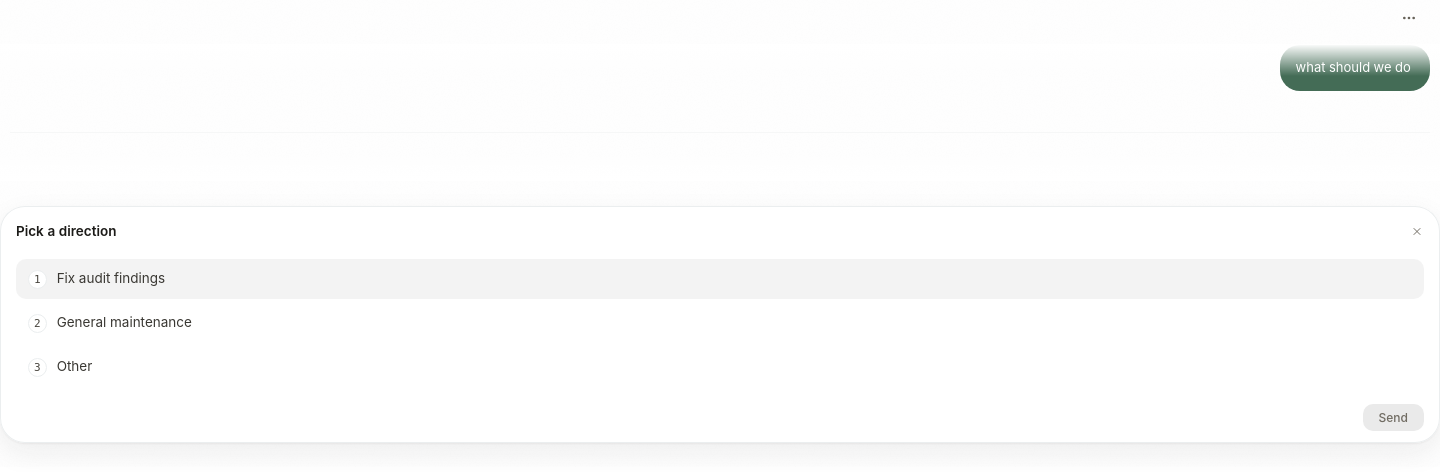
Test: SessionConversation — cards › takes the composer's place while the question is live, and gives it back when the question is closed
This screenshot has width=1440, height=472.
Expected: the element named "Question from agent" is shown, [0, 206, 1439, 443]
Click the button named "Answer in your own words".
click(1417, 231)  # box [1405, 219, 1429, 243]
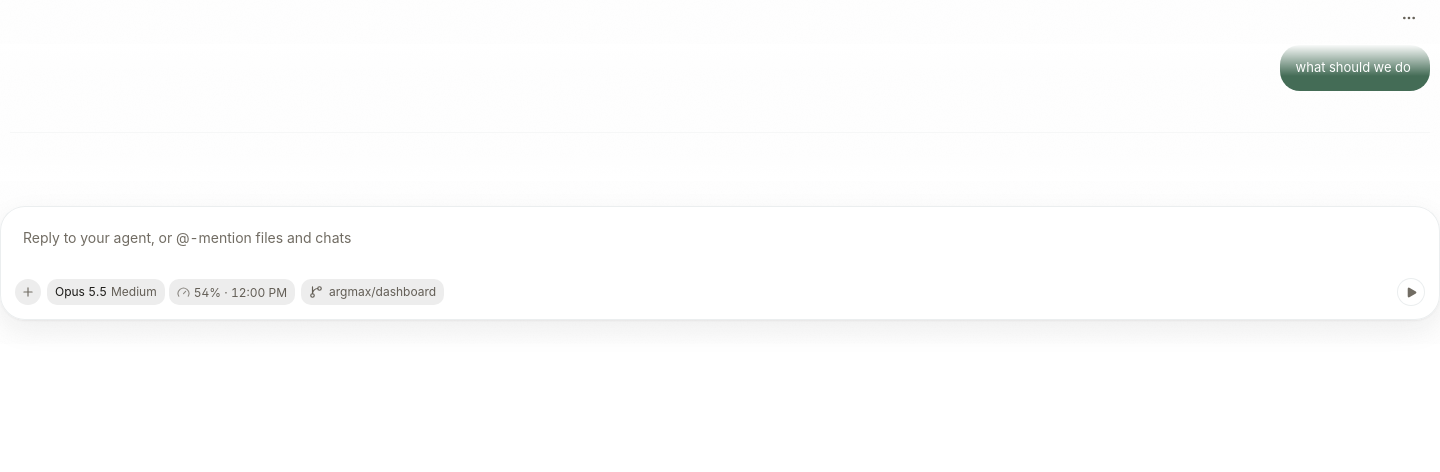
Now the text box named "Chat prompt" is shown, box [15, 219, 1425, 271]
